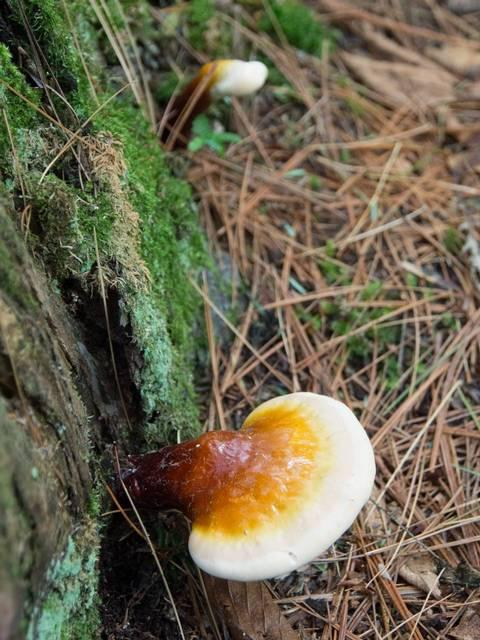Non-edible Mushroom: (115, 389, 376, 582), (163, 47, 265, 134)
